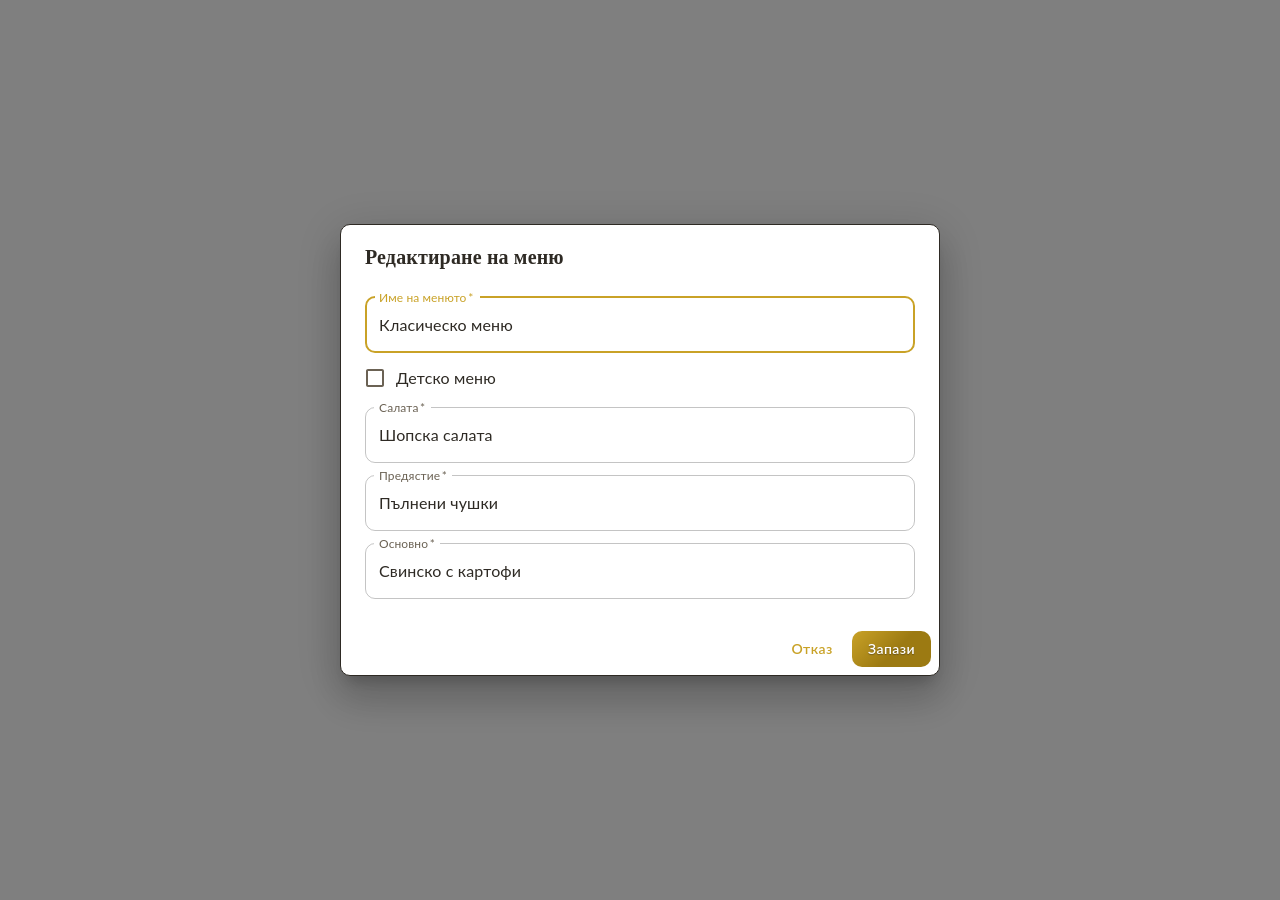
Test: MenuDialog › shows the error when saving fails
Click the button "Запази": coordinates (892, 649) [852, 631, 931, 667]
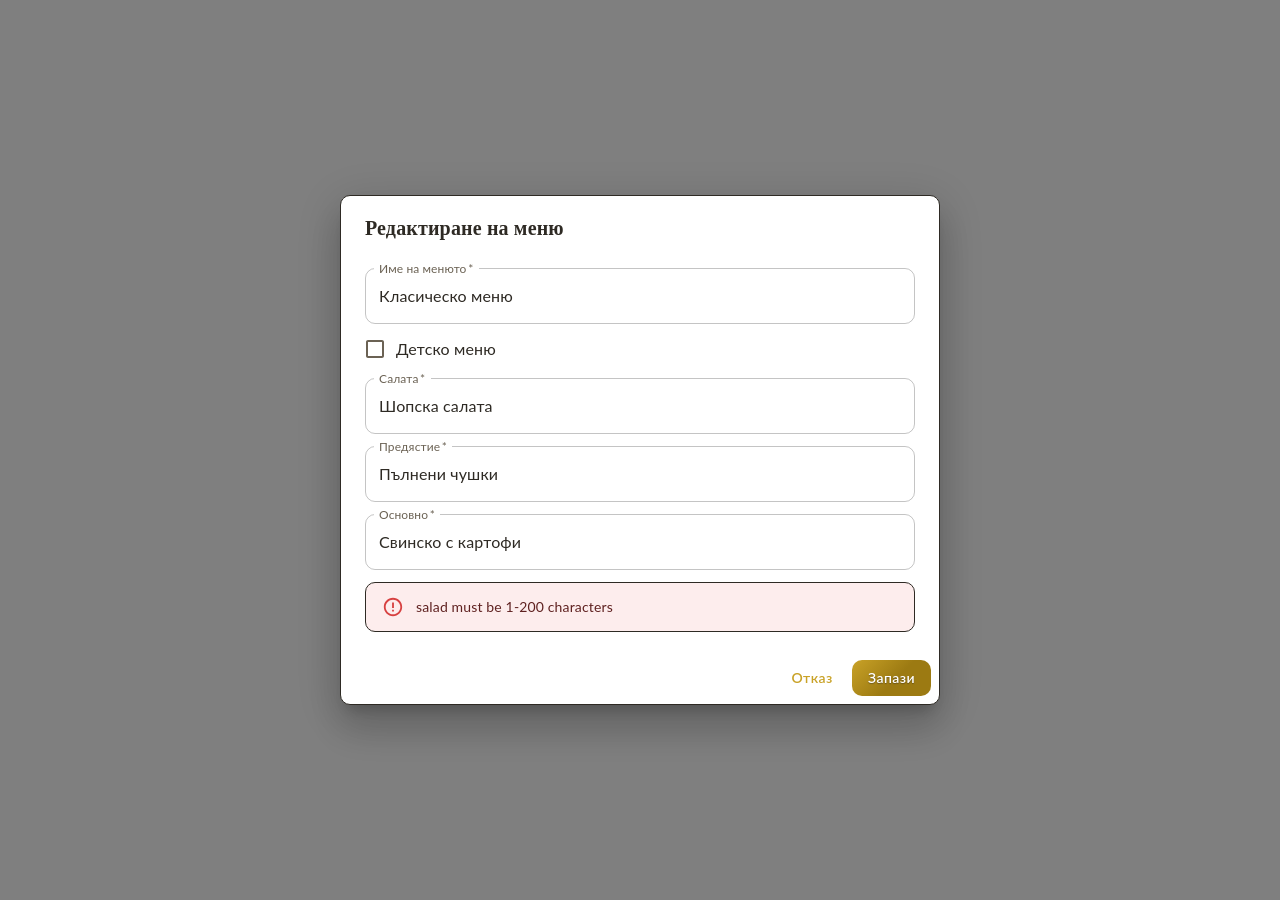
Check: the text "salad must be 1-200 characters" is shown, box [416, 598, 613, 615]
